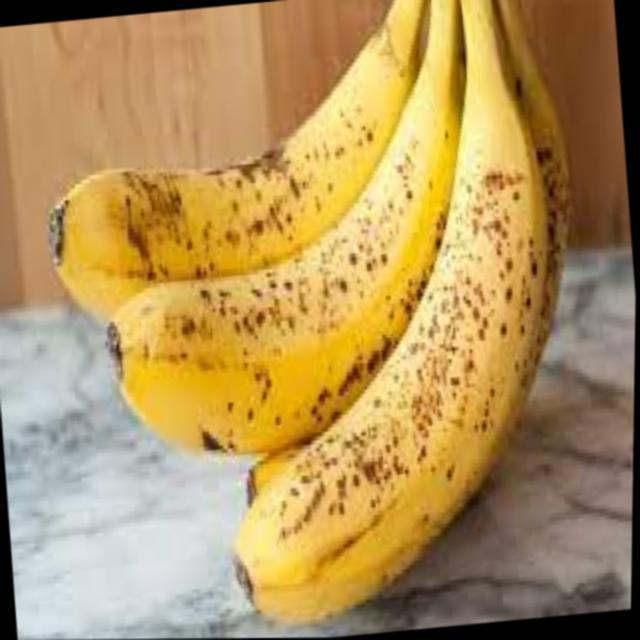Banana: (43, 0, 640, 626)
